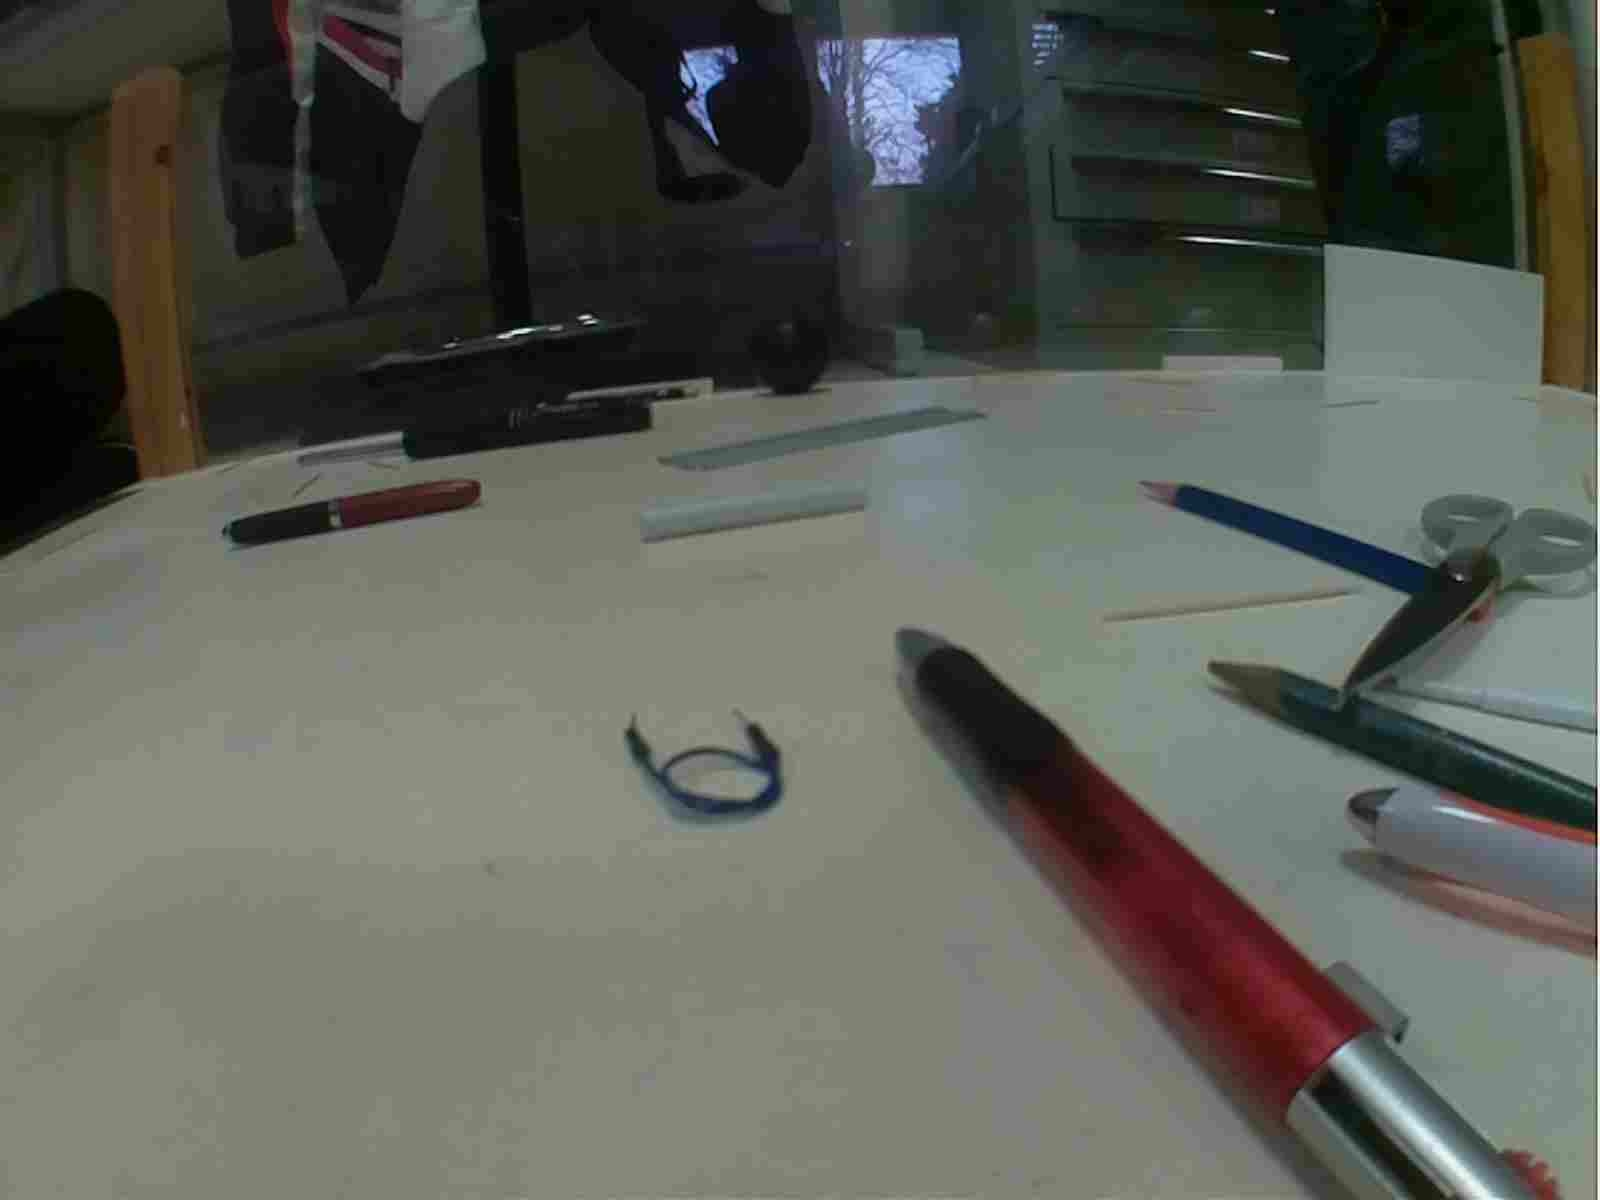nera: (753, 316, 844, 395)
